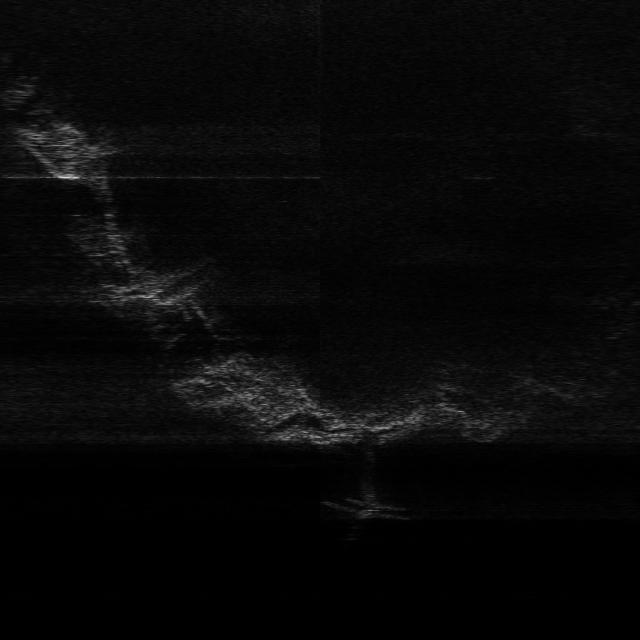plane: (320, 495, 414, 523)
